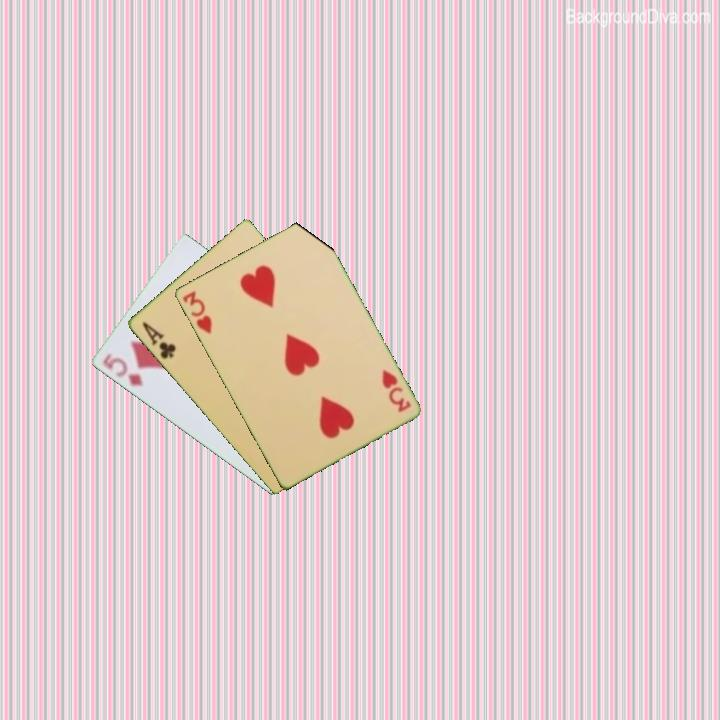3h: (179, 287, 215, 337), (378, 366, 413, 415)
5d: (99, 350, 145, 389)
Ac: (138, 318, 179, 362)
